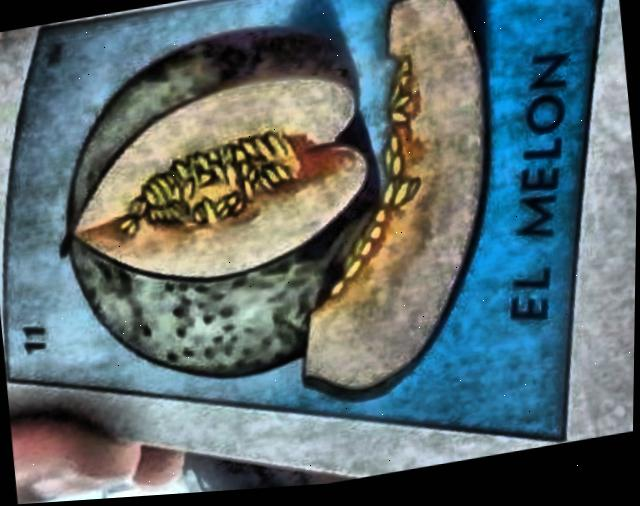El Melon: (10, 0, 603, 446)
